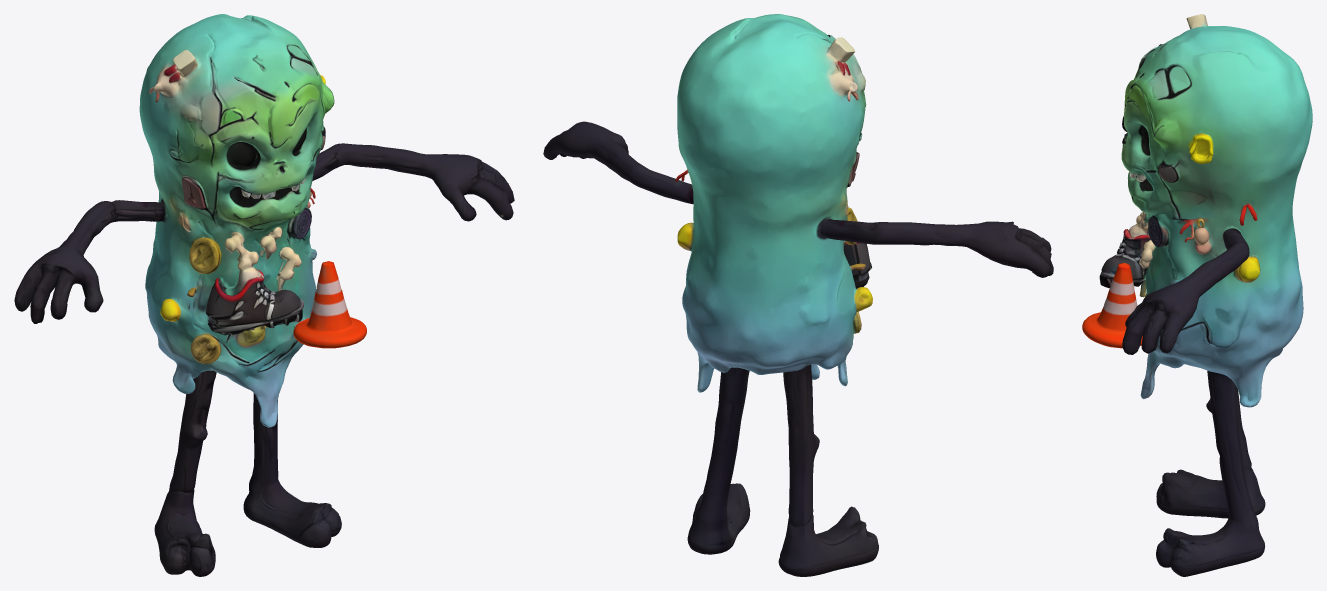
File: bounce_house_slime.glb
3 views of the same model, side by side, from view 1: azimuth 30°, elevation 25°; view 2: azimuth 150°, elevation 25°; view 3: azimuth 270°, elevation 25° (orthographic). The views are drawn at different scales.
Visible parts, largest first — view 1: bounce_house_slime; view 2: bounce_house_slime; view 3: bounce_house_slime.
Part boxes in pixels (bbox=[...]): bounce_house_slime: bbox=[14, 14, 514, 576]; bounce_house_slime: bbox=[543, 14, 1053, 576]; bounce_house_slime: bbox=[1082, 14, 1312, 576].
Bounding box in the file's own units: 1.59 × 1.6 × 0.6635.
1 material, 1 textured.
